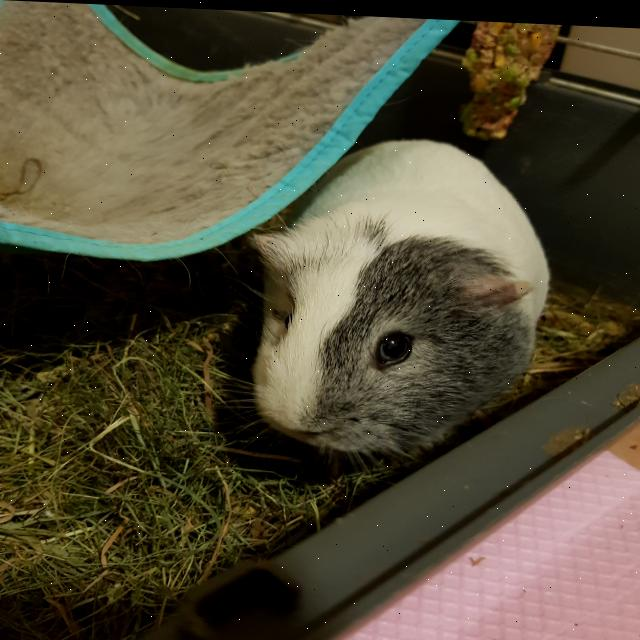guinea pig: (251, 130, 553, 464)
